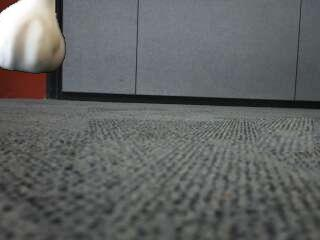Garlic: (0, 0, 67, 75)
